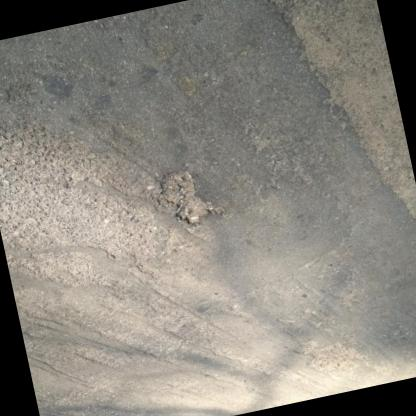pothole: (154, 162, 229, 233), (290, 328, 364, 382)
